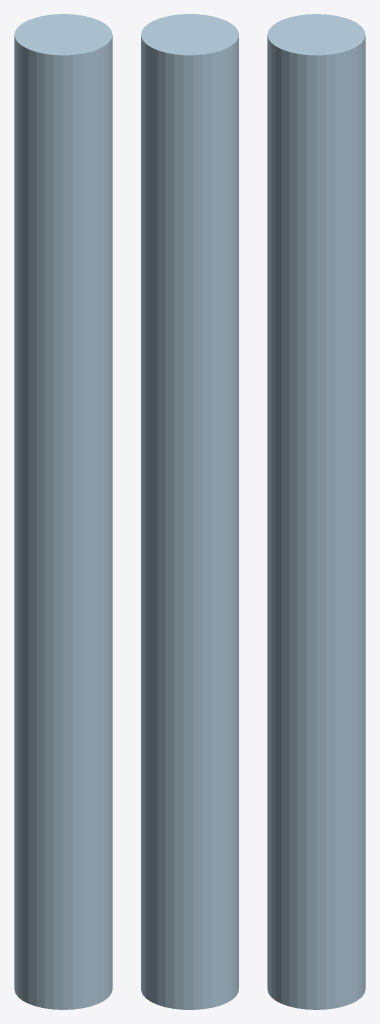
File: pillar.glb
3 renders of one model, left to right at view 1: azimuth 90°, elevation 25°; view 2: azimuth 150°, elevation 25°; view 3: azimuth 270°, elevation 25°, orthographic.
Visible parts, largest first — view 1: pillar; view 2: pillar; view 3: pillar.
Part boxes in pixels (box(x1,y1,x2,y2)): pillar: box(14, 14, 112, 1009); pillar: box(141, 14, 238, 1009); pillar: box(267, 14, 365, 1009).
Bounding box in the file's own units: 2.93 × 31.48 × 2.93.
